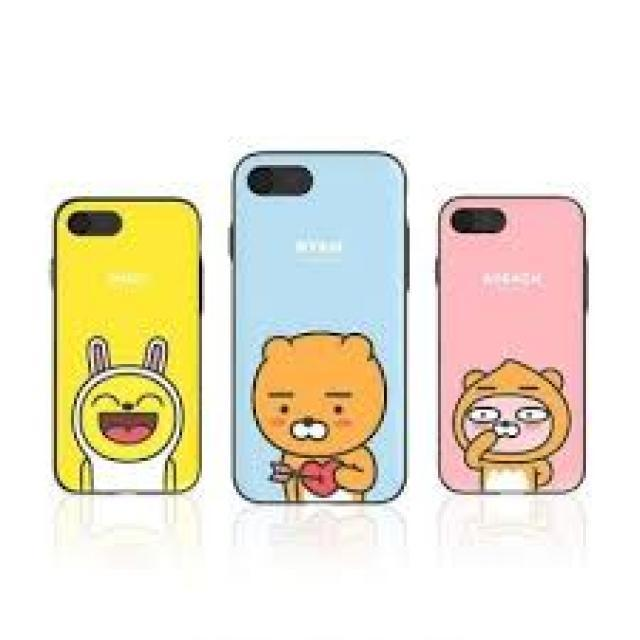Phone: (225, 146, 408, 506), (46, 191, 210, 497), (435, 188, 590, 492)
